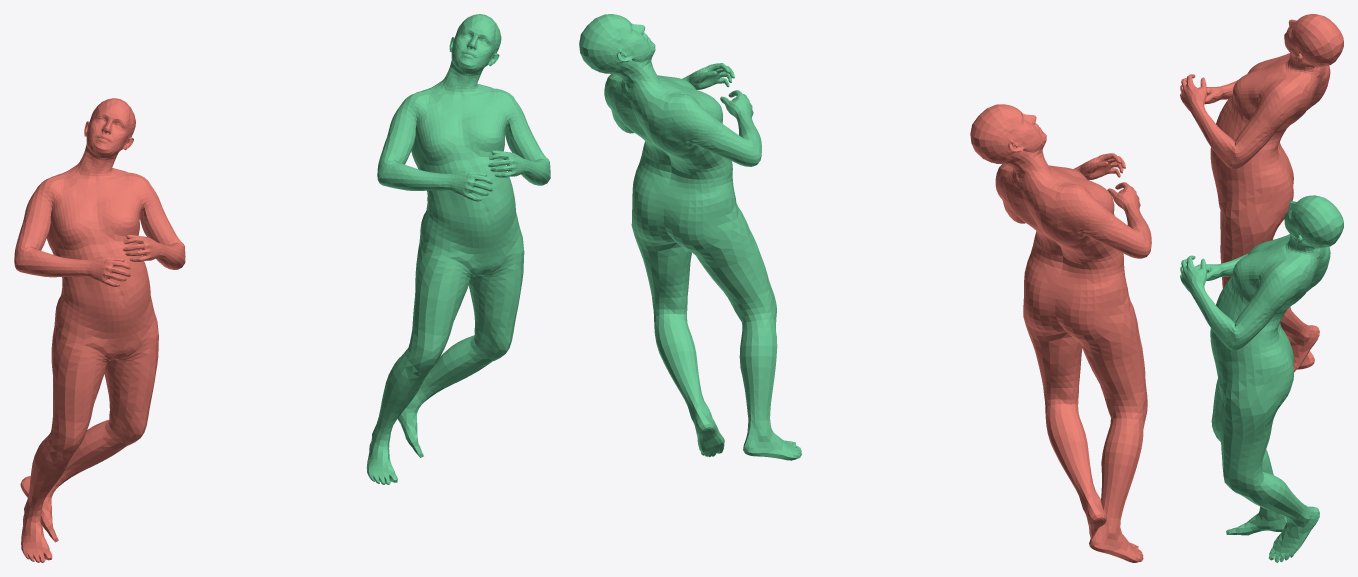
The model's file is pose_327_before_after.glb.
The picture shows the model from 3 angles, left to right: view 1: azimuth 30°, elevation 25°; view 2: azimuth 150°, elevation 25°; view 3: azimuth 270°, elevation 25°; orthographic projection. The views are drawn at different scales.
Visible parts, largest first — view 1: poseshield_green, input_red; view 2: poseshield_green, input_red; view 3: poseshield_green, input_red.
Boxes of the visible parts, x1,y1,x2,y2 form: poseshield_green: [366, 14, 550, 484]; input_red: [14, 98, 185, 562]; poseshield_green: [579, 14, 801, 460]; input_red: [970, 104, 1151, 562]; poseshield_green: [1180, 195, 1343, 562]; input_red: [1180, 14, 1343, 372].
Size of what is drawn, in the model's own units: 2.1 by 1.62 by 0.5848.
